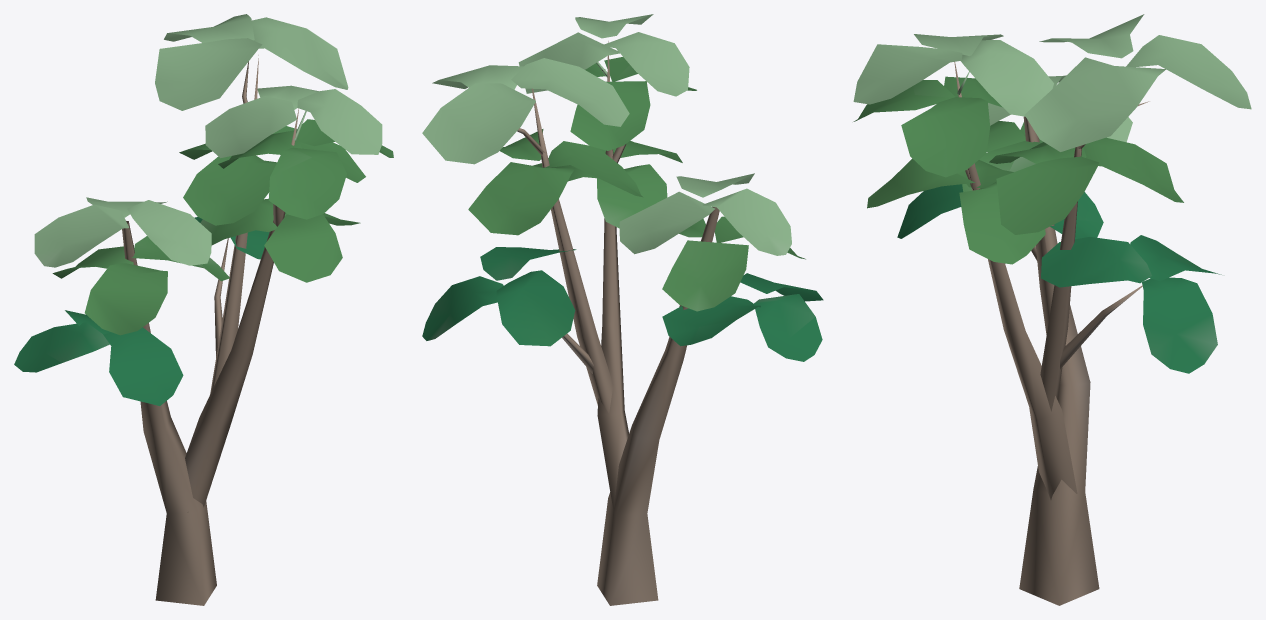
File: tree4.glb
The picture shows the model from 3 angles, left to right: view 1: azimuth 30°, elevation 25°; view 2: azimuth 150°, elevation 25°; view 3: azimuth 270°, elevation 25°; orthographic projection. The views are drawn at different scales.
Parts seen in each view (by area): view 1: oak1-lod1; view 2: oak1-lod1; view 3: oak1-lod1.
Part boxes in pixels (x1,y1,x2,y2): oak1-lod1: (14, 14, 393, 605); oak1-lod1: (422, 14, 823, 605); oak1-lod1: (853, 14, 1251, 605).
Bounding box in the file's own units: 8.91 × 12.71 × 7.8.
